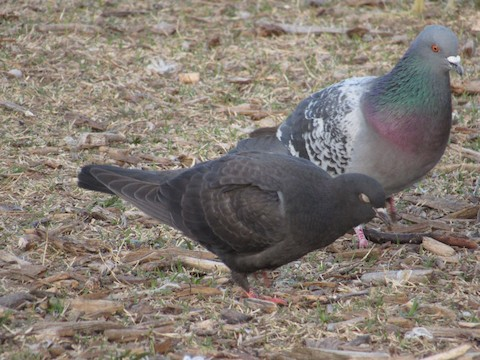pigeon: (211, 16, 471, 246), (69, 142, 402, 309)
